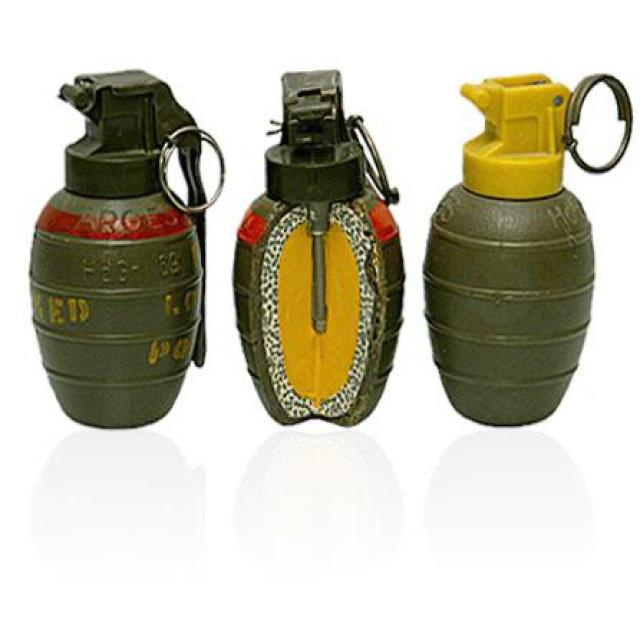grenade: (423, 72, 634, 430), (30, 69, 229, 433), (231, 69, 408, 429)
